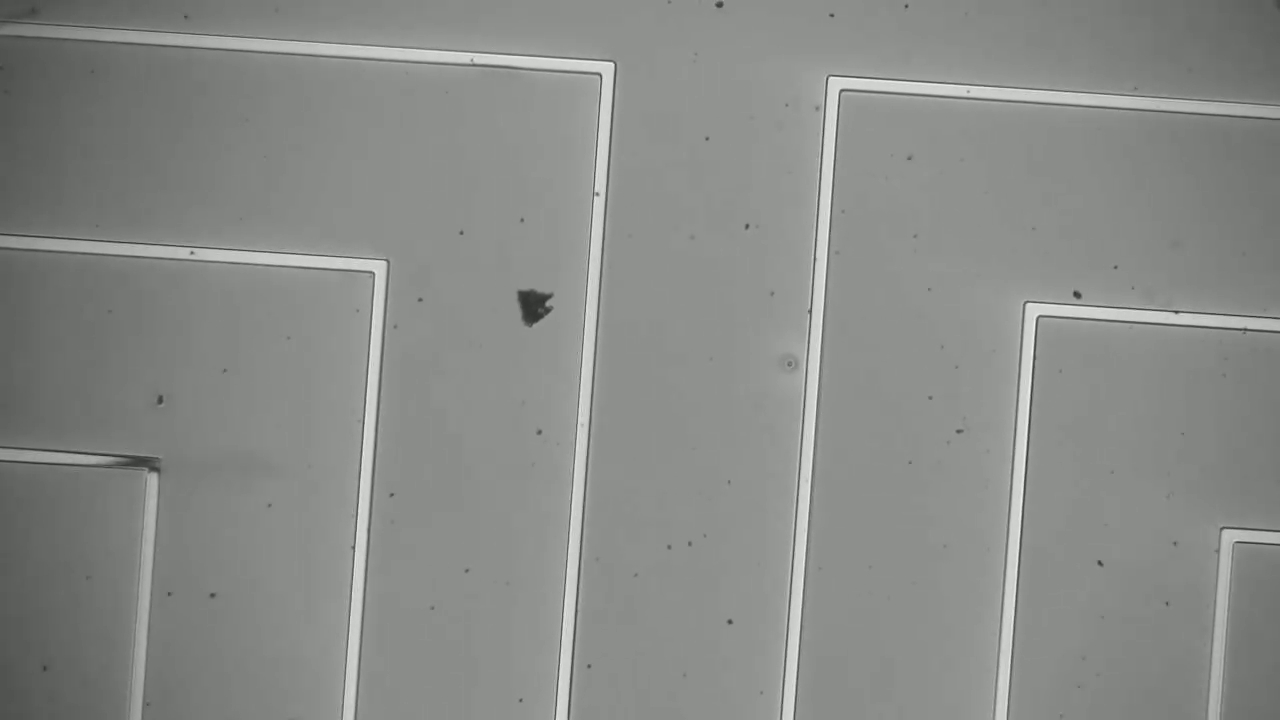gray_line: (93, 438, 172, 487)
